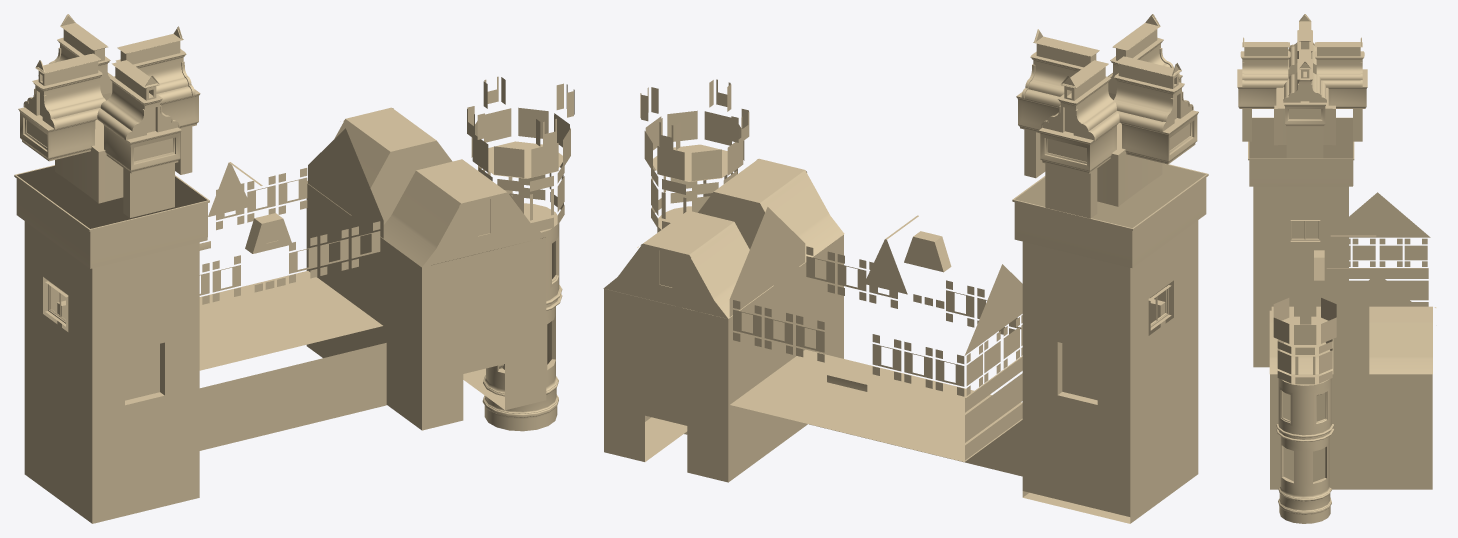
File: FairyTale86.gltf
3 renders of one model, left to right at view 1: azimuth 30°, elevation 25°; view 2: azimuth 150°, elevation 25°; view 3: azimuth 270°, elevation 25°, orthographic. The views are drawn at different scales.
Visible parts, largest first — view 1: ManorLG_PlasterYellow; view 2: ManorLG_PlasterYellow; view 3: ManorLG_PlasterYellow.
Part boxes in pixels (left/top/right/bottom): ManorLG_PlasterYellow: left=14, top=14, right=574, bottom=523; ManorLG_PlasterYellow: left=603, top=14, right=1208, bottom=523; ManorLG_PlasterYellow: left=1237, top=14, right=1436, bottom=523.
Size of the model in its own units: 33.86 by 28.46 by 15.93.
